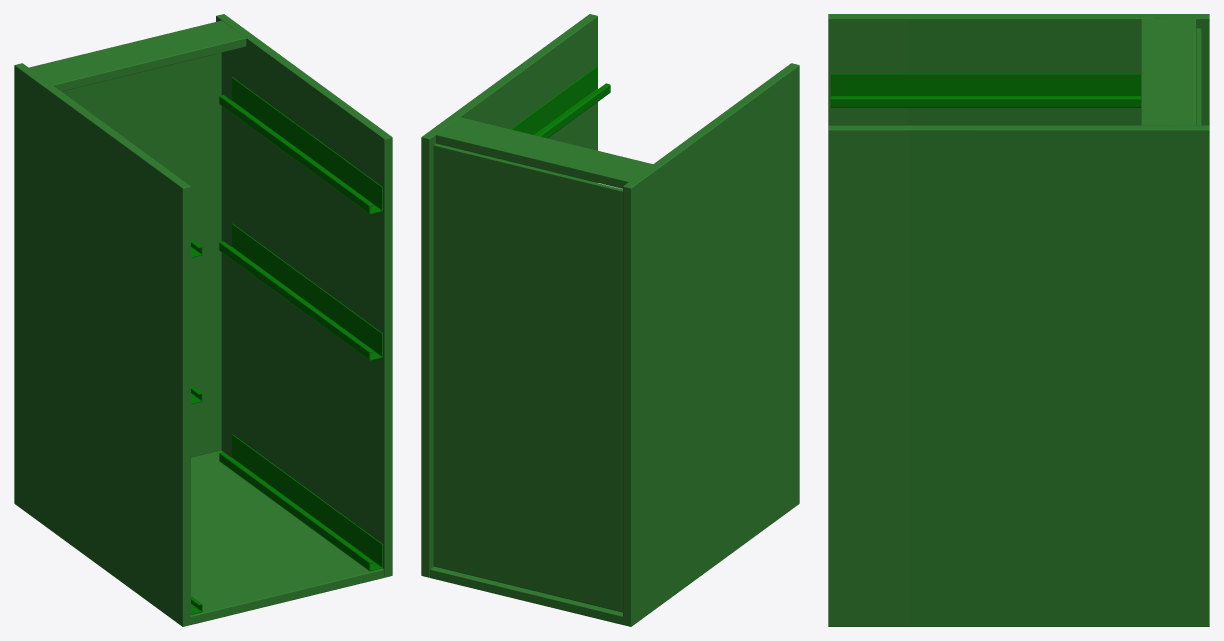
The model's file is SM_Kitchen_03_Base.fbx.
3 views of the same model, side by side, from view 1: azimuth 30°, elevation 25°; view 2: azimuth 150°, elevation 25°; view 3: azimuth 270°, elevation 25° (orthographic). The views are drawn at different scales.
Parts seen in each view (by area): view 1: SM_Kitchen_03_Base; view 2: SM_Kitchen_03_Base; view 3: SM_Kitchen_03_Base.
Boxes of the visible parts, x1=… form: SM_Kitchen_03_Base: x1=14, y1=14, x2=392, y2=626; SM_Kitchen_03_Base: x1=421, y1=14, x2=799, y2=626; SM_Kitchen_03_Base: x1=828, y1=14, x2=1209, y2=626.
Bounding box in the file's own units: 39.96 × 79.8 × 55.49.
